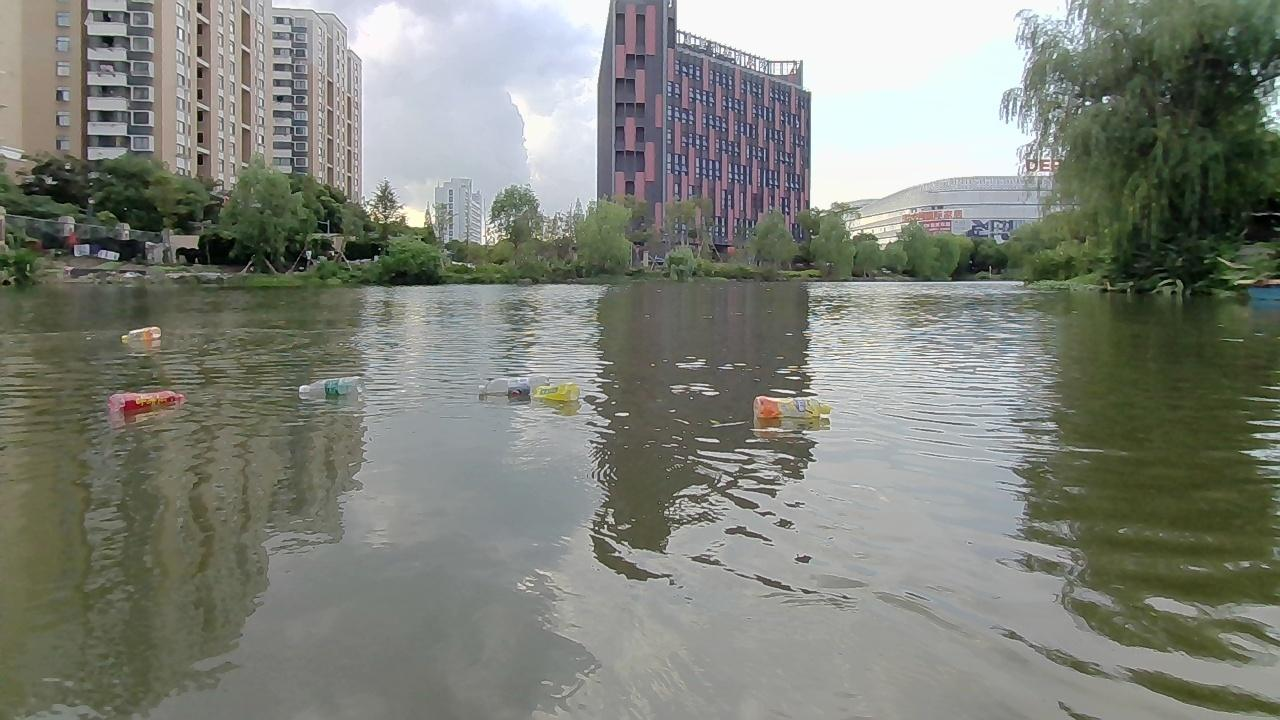bottle: (748, 394, 836, 426), (477, 369, 555, 398), (104, 386, 181, 411), (527, 380, 581, 408), (295, 376, 364, 397), (116, 327, 163, 347)
